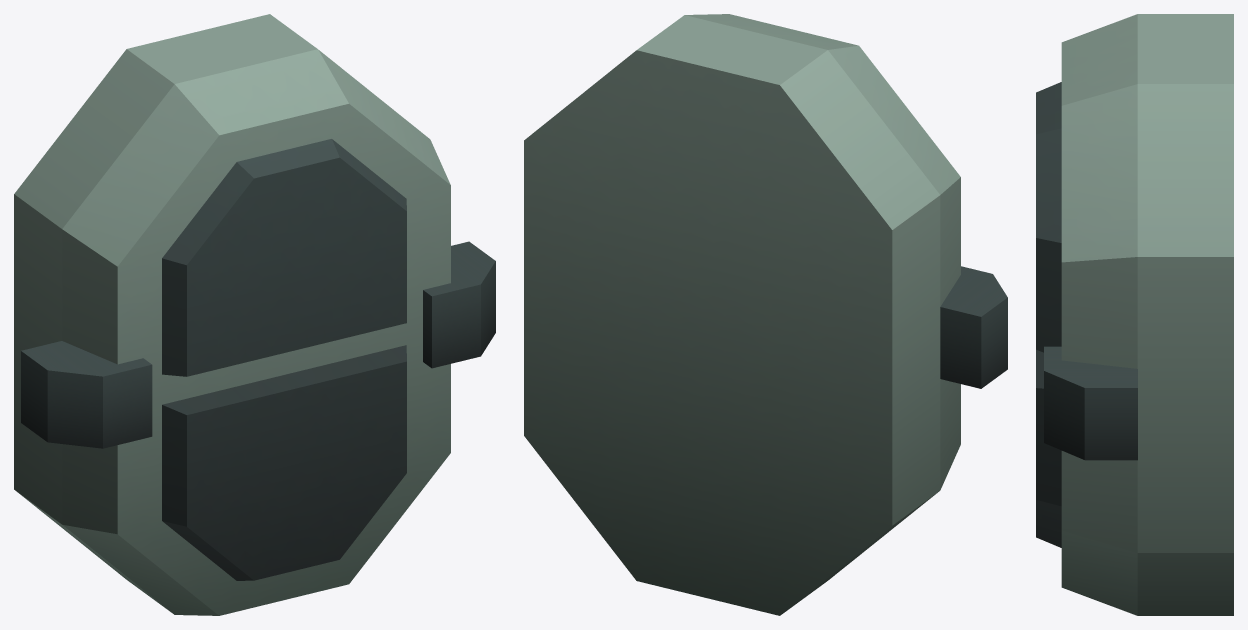
File: switch_007.fbx
3 renders of one model, left to right at view 1: azimuth 30°, elevation 25°; view 2: azimuth 150°, elevation 25°; view 3: azimuth 270°, elevation 25°, orthographic.
Parts seen in each view (by area): view 1: switch.007; view 2: switch.007; view 3: switch.007.
Part boxes in pixels (x1,y1,x2,y2): switch.007: (14,14,495,615); switch.007: (524,14,1007,615); switch.007: (1036,14,1233,615).
Size of the model in its own units: 81.2 by 91.9 by 30.98.
